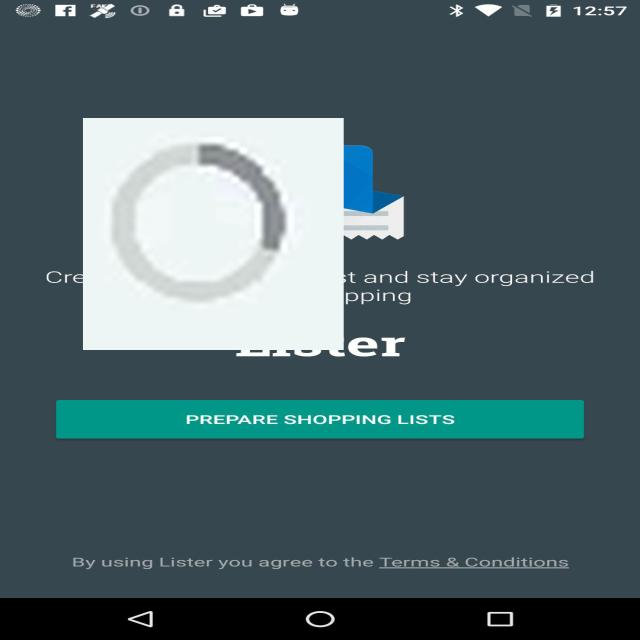misdirection: (83, 118, 344, 350)
